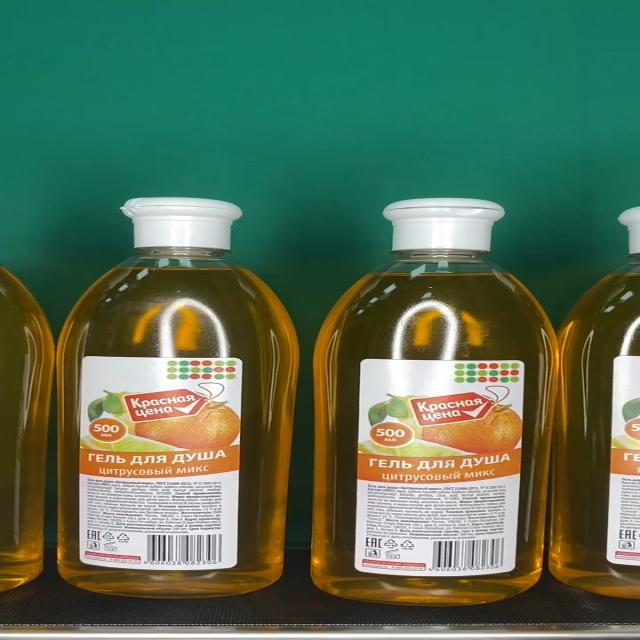Bottle: (312, 198, 557, 606), (54, 197, 299, 598)
Cap: (382, 198, 506, 251), (122, 197, 242, 248)
